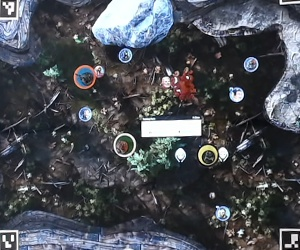giant_red_octopus: (168, 71, 200, 102)
green: (112, 133, 135, 156)
light_blue_orange: (73, 66, 96, 89)
lime_green_violet: (197, 143, 220, 166)
